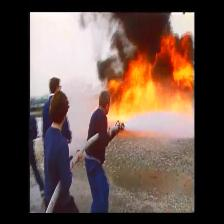fire: (126, 57, 193, 108)
smoke: (113, 11, 167, 40)
